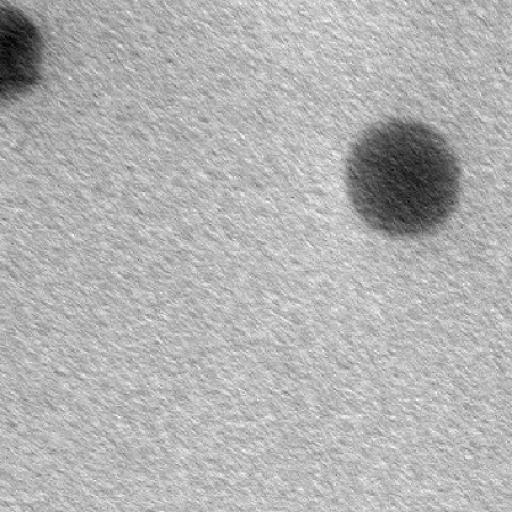Nanoparticles: (346, 115, 465, 238), (0, 0, 66, 112)
